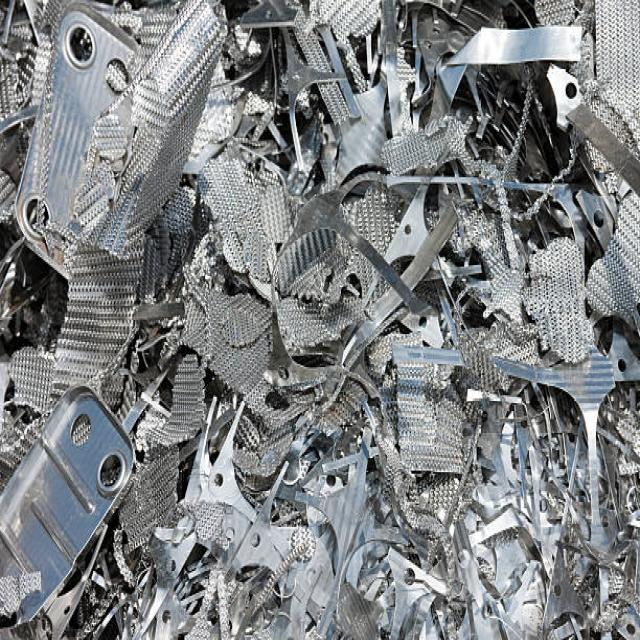metal: (9, 24, 590, 618)
